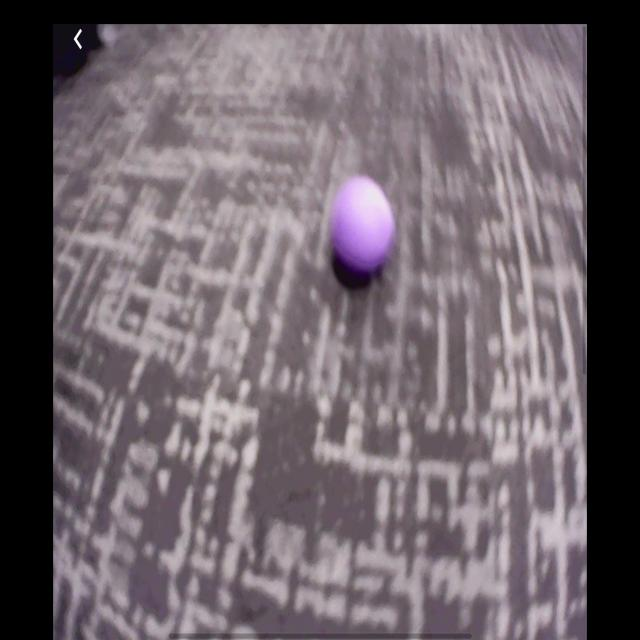ball: (331, 176, 393, 278)
